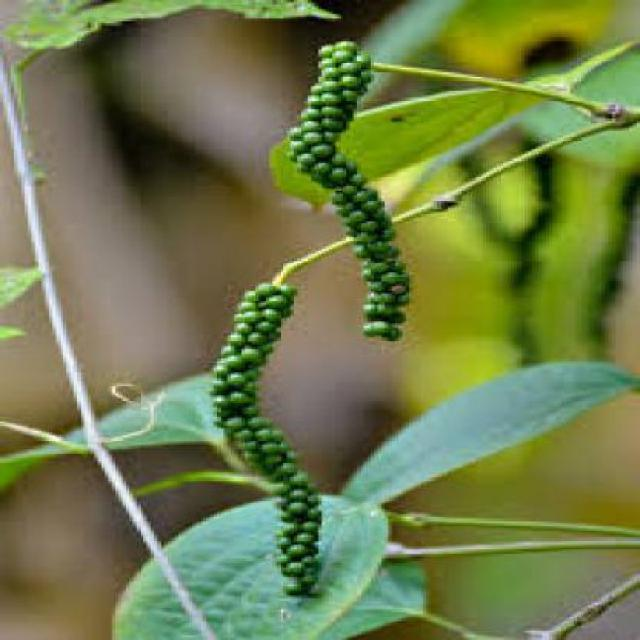UNRIPE: (280, 40, 426, 331), (220, 277, 343, 589)
